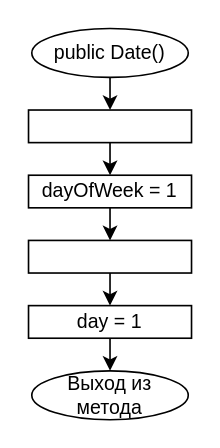
This 220x448 diagram has some shape labels left out. The shapes that lost their labels are listed below. From the top down, each one's box as (x1, y1, x2, y2) in pixels, then its label:
(27, 108, 192, 143): year = 2008
(27, 239, 192, 273): month = 0
